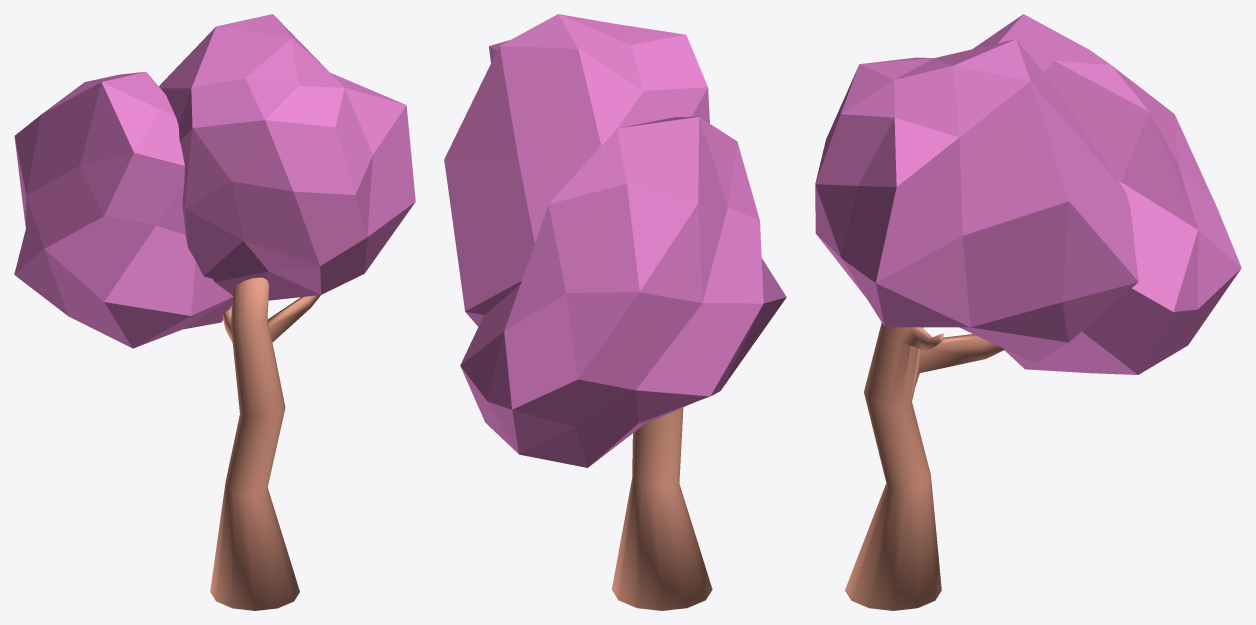
The model's file is Tree3.fbx.
3 views of the same model, side by side, from view 1: azimuth 30°, elevation 25°; view 2: azimuth 150°, elevation 25°; view 3: azimuth 270°, elevation 25° (orthographic). The views are drawn at different scales.
Parts seen in each view (by area): view 1: Icosphere.001; view 2: Icosphere.001; view 3: Icosphere.001.
Part boxes in pixels (x1,y1,x2,y2): Icosphere.001: (14, 14, 415, 610); Icosphere.001: (444, 14, 786, 610); Icosphere.001: (815, 14, 1241, 610).
Size of the model in its own units: 305 by 499 by 344.
